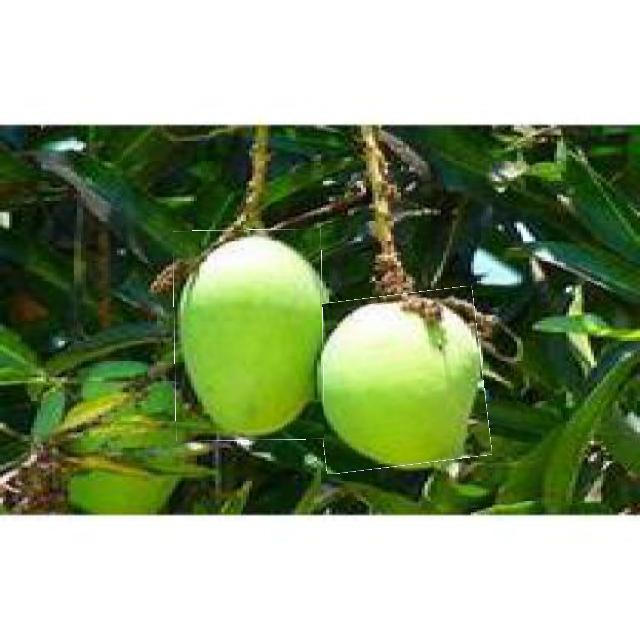mango: (312, 290, 488, 470), (174, 230, 324, 441)
